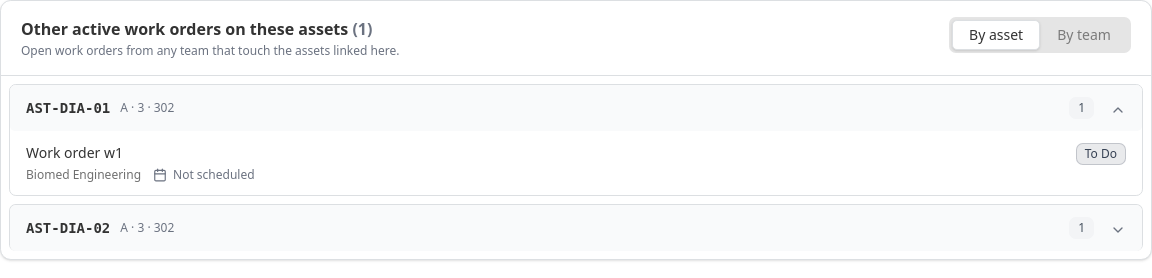
OtherAssetWorkOrdersCard › re-groups by department and adds asset chips when By team is selected
Step 1. Click the radio button labelled "By team" → (1084, 35), box [1040, 20, 1128, 50]
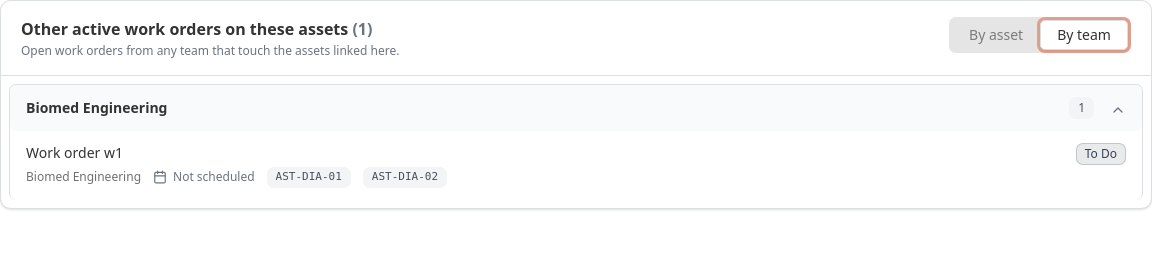
Check: the text "AST-DIA-01" is shown, box [267, 167, 351, 188]
Check: the text "Biomed Engineering" is shown 2 times, box [26, 98, 168, 118]; [26, 169, 141, 185]
